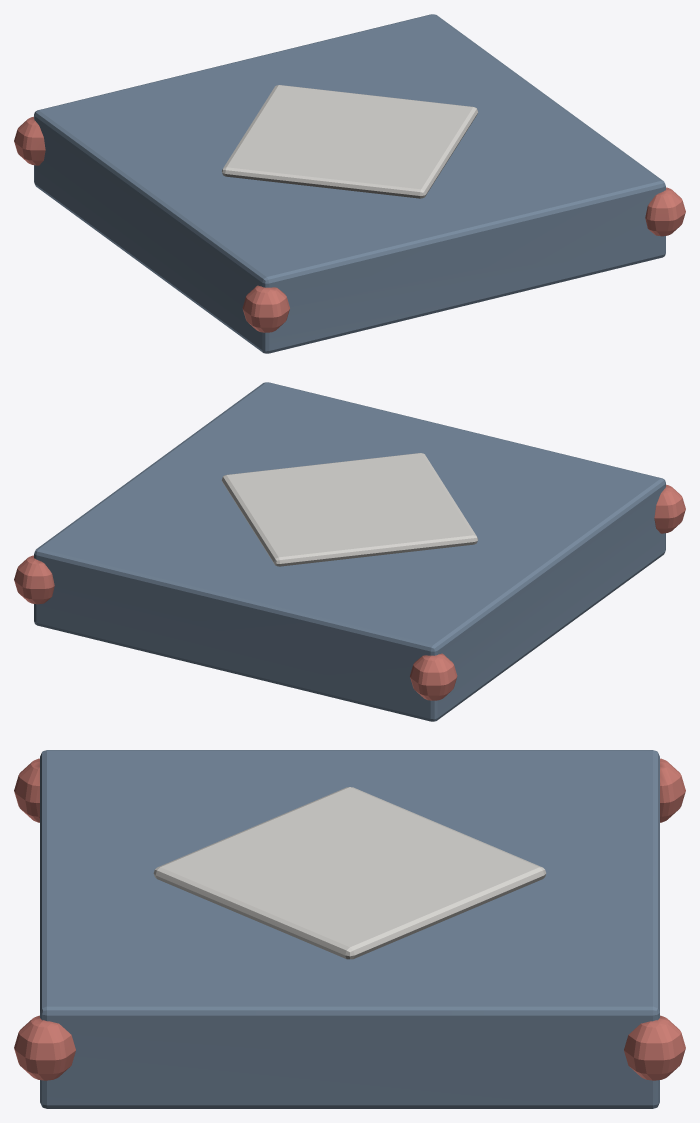
Rendered from furn_floor_cushion__navy.glb.
3 renders of one model, top to bottom at view 1: azimuth 30°, elevation 25°; view 2: azimuth 150°, elevation 25°; view 3: azimuth 270°, elevation 25°, orthographic. The views are drawn at different scales.
Bounding box in the file's own units: 0.592 × 0.111 × 0.5964.
